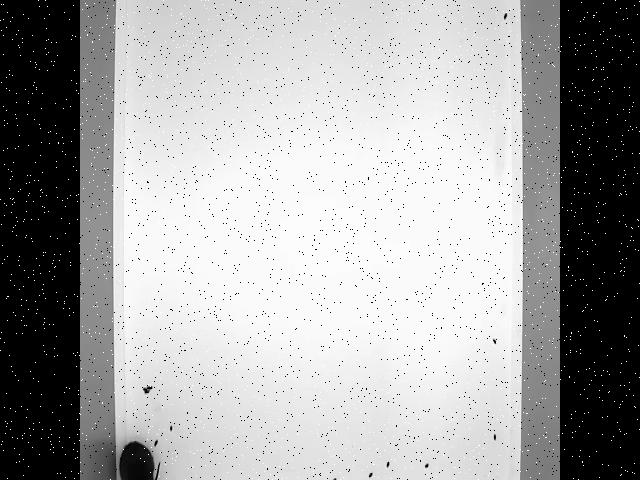Tikus: (118, 437, 162, 480)
